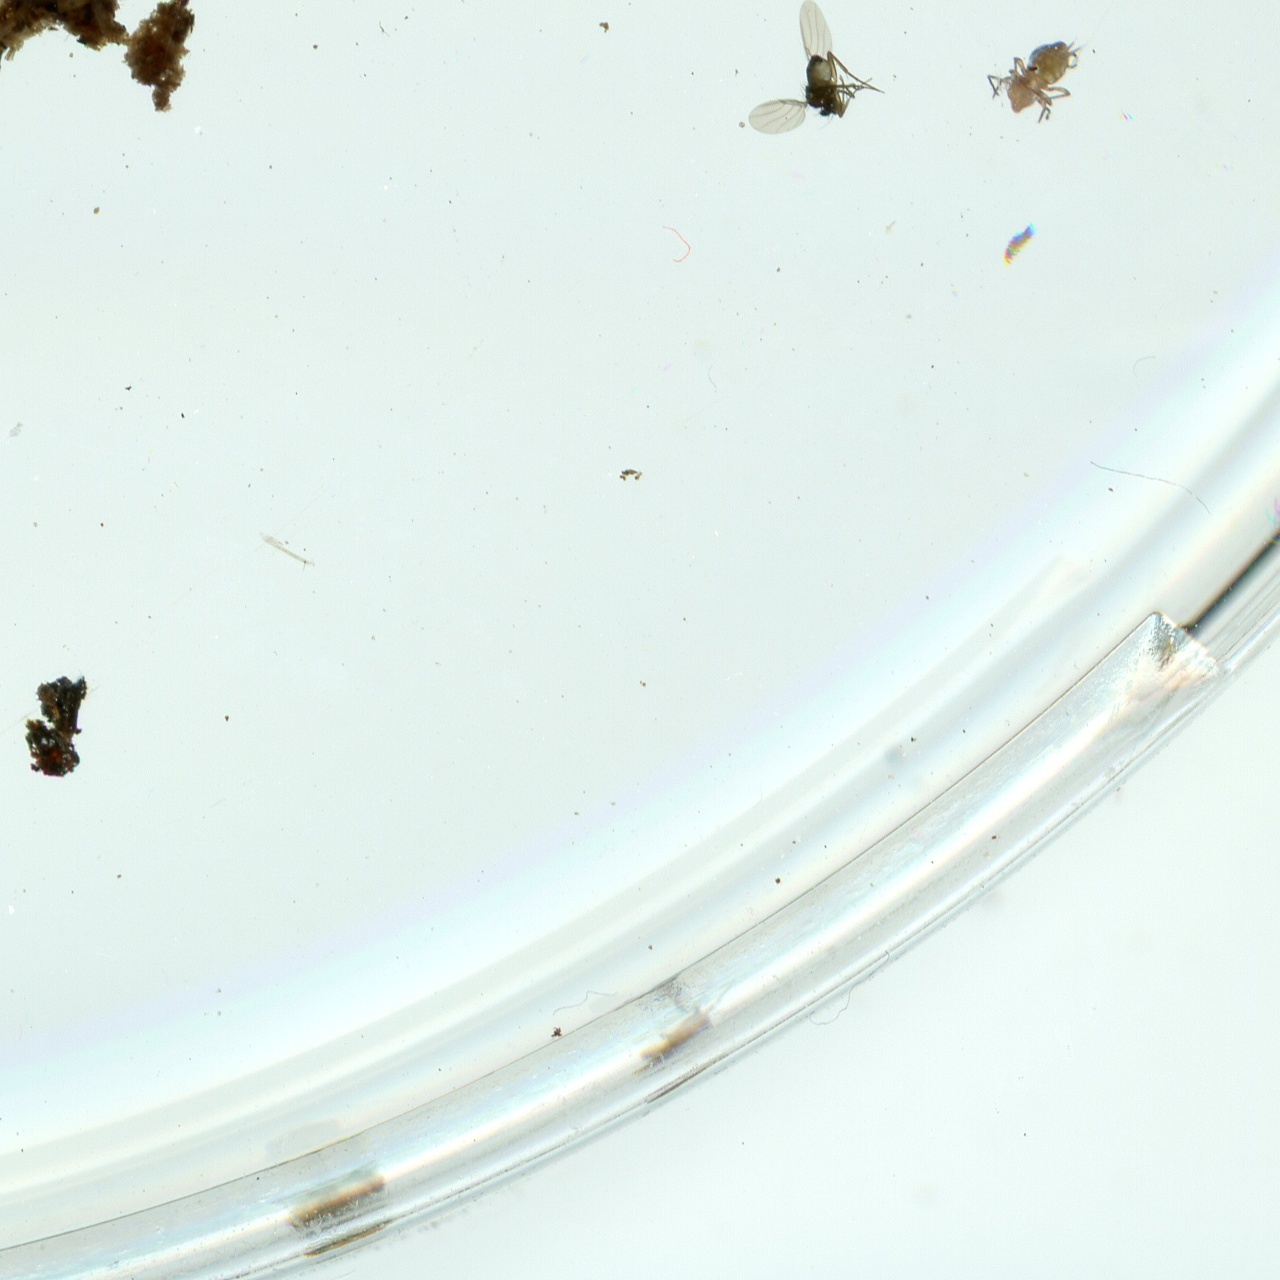arthropod: (745, 0, 888, 138), (985, 32, 1090, 125), (992, 212, 1043, 277)
